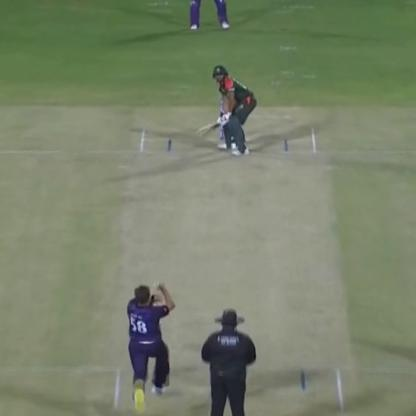bat: (188, 116, 228, 141)
pitch: (107, 127, 346, 416)
